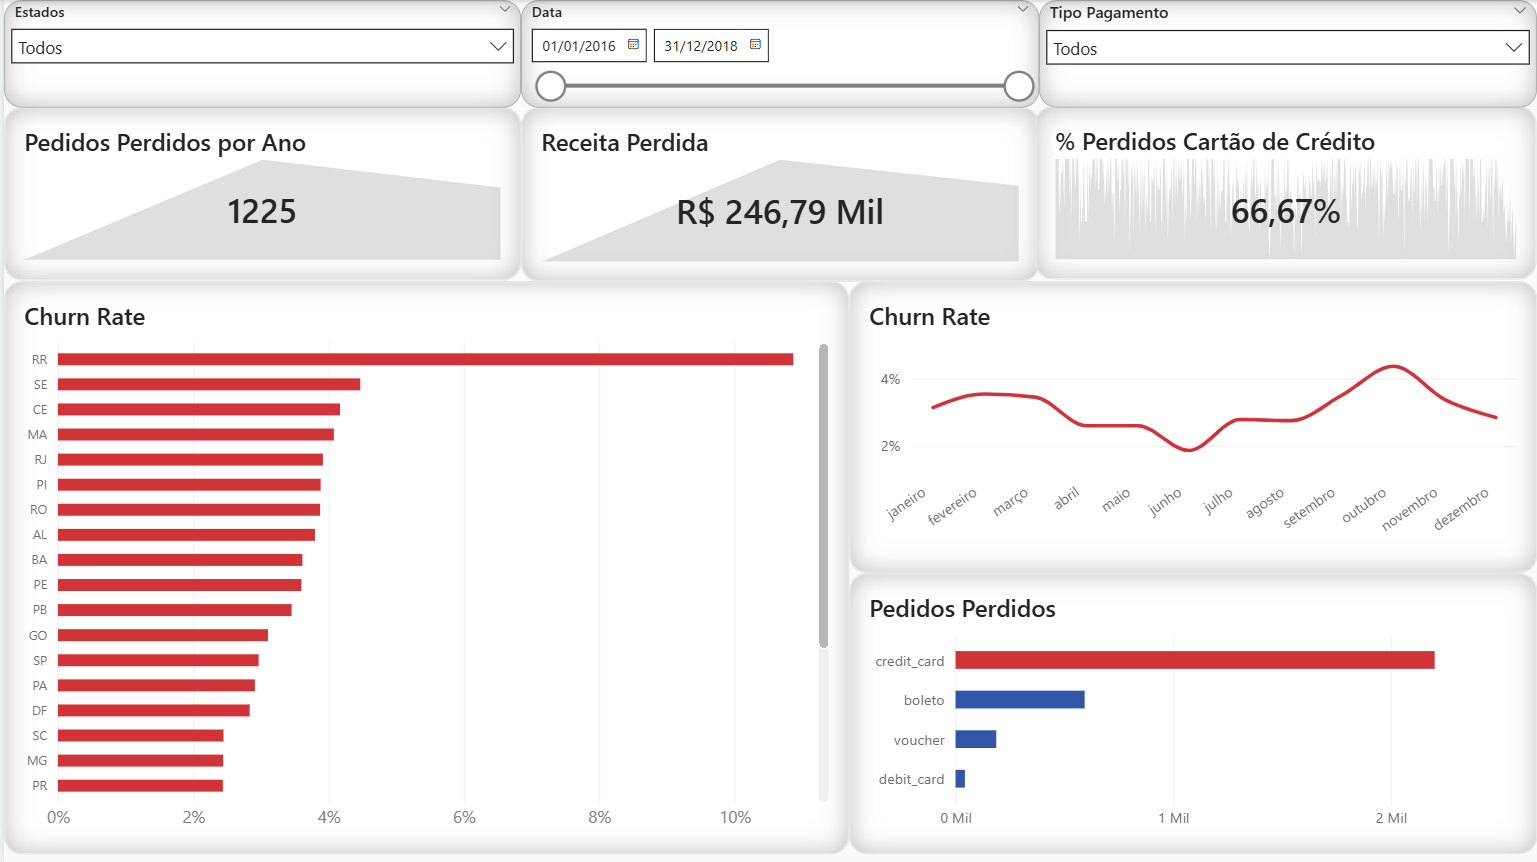

The page's visual inventory and layout, read from the dashboard file:
{"tool":"powerbi","page":{"name":"Análise de Risco","canvas":[1280,720],"ordinal":1},"visuals":[{"type":"kpi","fields":{"Indicator":["_Medidas.Pedidos Perdidos"],"TrendLine":["dCalendario.Date.Variation.Hierarquia de datas.Ano"]},"box":[0,89.8,431.8,144.5],"z":3000},{"type":"kpi","title":"Receita Perdida","fields":{"Indicator":["_Medidas.Receita Perdida"],"TrendLine":["dCalendario.Date.Variation.Hierarquia de datas.Ano"]},"box":[431.8,89.8,432.7,146.3],"z":4000},{"type":"kpi","title":"% Perdidos Cartão de Crédito","fields":{"Indicator":["_Medidas.% Pedidos Perdidos Credit Card"],"TrendLine":["dCalendario.Date"]},"box":[860.9,88.9,419.3,145.4],"z":5000},{"type":"clusteredBarChart","title":"Pedidos Perdidos","fields":{"Category":["dPagamento.TIPO_PAGAMENTO"],"Y":["_Medidas.Pedidos Perdidos"]},"box":[705.6,478.5,574.6,235.2],"z":6000},{"type":"lineChart","title":"Churn Rate","fields":{"Category":["dCalendario.Date.Variation.Hierarquia de datas.Mês"],"Y":["_Medidas.Churn Rate Validado"]},"box":[705.6,234.3,574.6,244.2],"z":7000},{"type":"clusteredBarChart","title":"Churn Rate","fields":{"Category":["dLocalidade.ESTADO"],"Y":["_Medidas.Churn Rate Validado"]},"box":[0,234.3,705.6,479.4],"z":8000},{"type":"slicer","fields":{"Values":["dCalendario.Date"]},"box":[431.8,0,432.7,89.8],"z":8001},{"type":"slicer","fields":{"Values":["dLocalidade.ESTADO"]},"box":[0,0,431.8,89.8],"z":8002},{"type":"slicer","fields":{"Values":["dPagamento.TIPO_PAGAMENTO"]},"box":[864.5,0,415.7,89.8],"z":8003}]}

Visuals, with their boxes in screenshot pixels (x1, y1, x2, y2), scaled from the page's 1280x720 canvas onto the 1537x862 screenshot:
kpi - _Medidas.Pedidos Perdidos x dCalendario.Date.Variation.Hierarquia de datas.Ano: 0 108 518 281
"Receita Perdida" kpi: 518 108 1038 283
"% Perdidos Cartão de Crédito" kpi: 1034 106 1536 281
"Pedidos Perdidos" clusteredBarChart: 847 573 1536 854
"Churn Rate" lineChart: 847 281 1536 573
"Churn Rate" clusteredBarChart: 0 281 847 854
slicer - dCalendario.Date: 518 0 1038 108
slicer - dLocalidade.ESTADO: 0 0 518 108
slicer - dPagamento.TIPO_PAGAMENTO: 1038 0 1536 108
